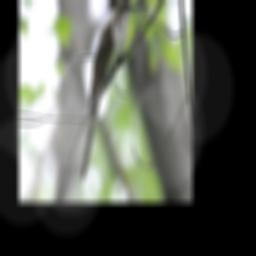Cuckoo: (78, 0, 140, 184)
